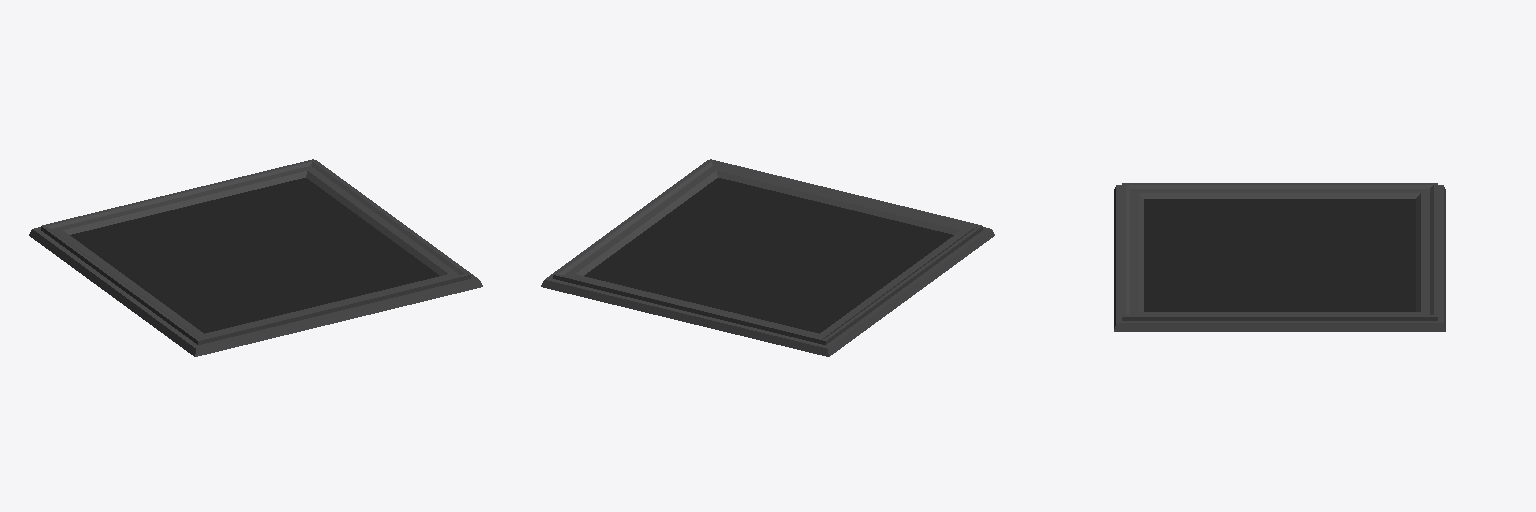
Rendered from FloorTile_Empty.obj.
3 views of the same model, side by side, from view 1: azimuth 30°, elevation 25°; view 2: azimuth 150°, elevation 25°; view 3: azimuth 270°, elevation 25° (orthographic).
Visible parts, largest first — view 1: FloorTile_Empty_Plane.000; view 2: FloorTile_Empty_Plane.000; view 3: FloorTile_Empty_Plane.000.
Part boxes in pixels (bbox=[...]): FloorTile_Empty_Plane.000: bbox=[29, 159, 482, 356]; FloorTile_Empty_Plane.000: bbox=[541, 159, 994, 356]; FloorTile_Empty_Plane.000: bbox=[1114, 183, 1445, 331].
Size of the model in its own units: 2 by 0.0773 by 2.